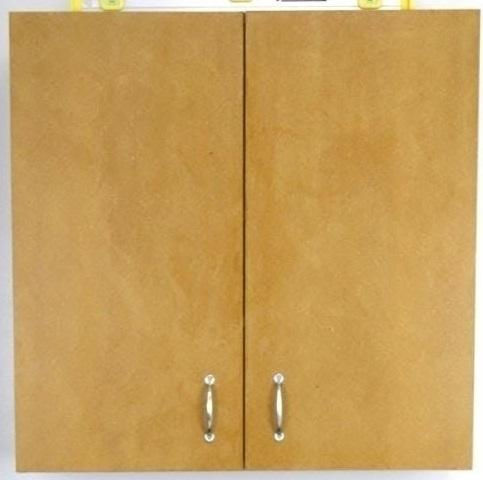cabinet_door: (11, 9, 245, 470), (246, 13, 471, 470)
handle: (268, 372, 290, 447), (201, 373, 220, 444)
